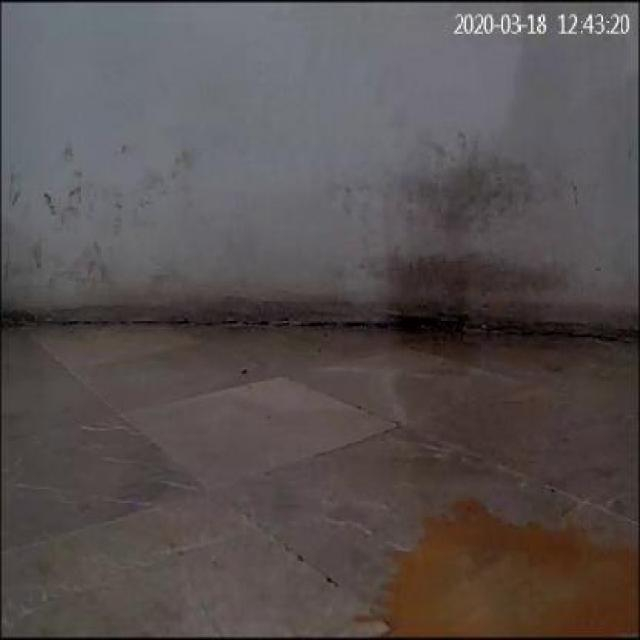spill: (360, 484, 634, 636)
